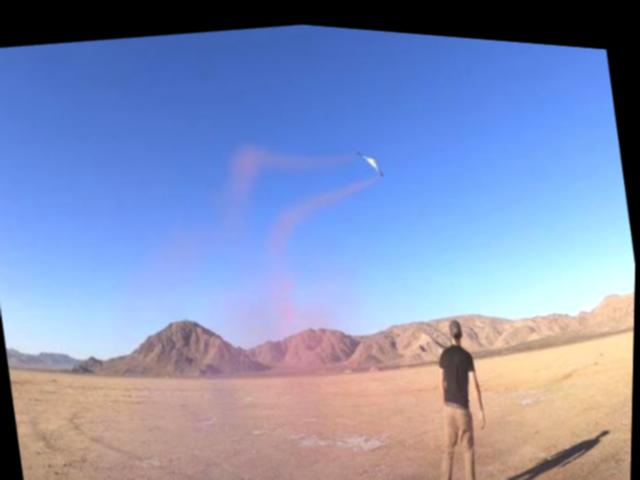iha: (356, 141, 383, 175)
